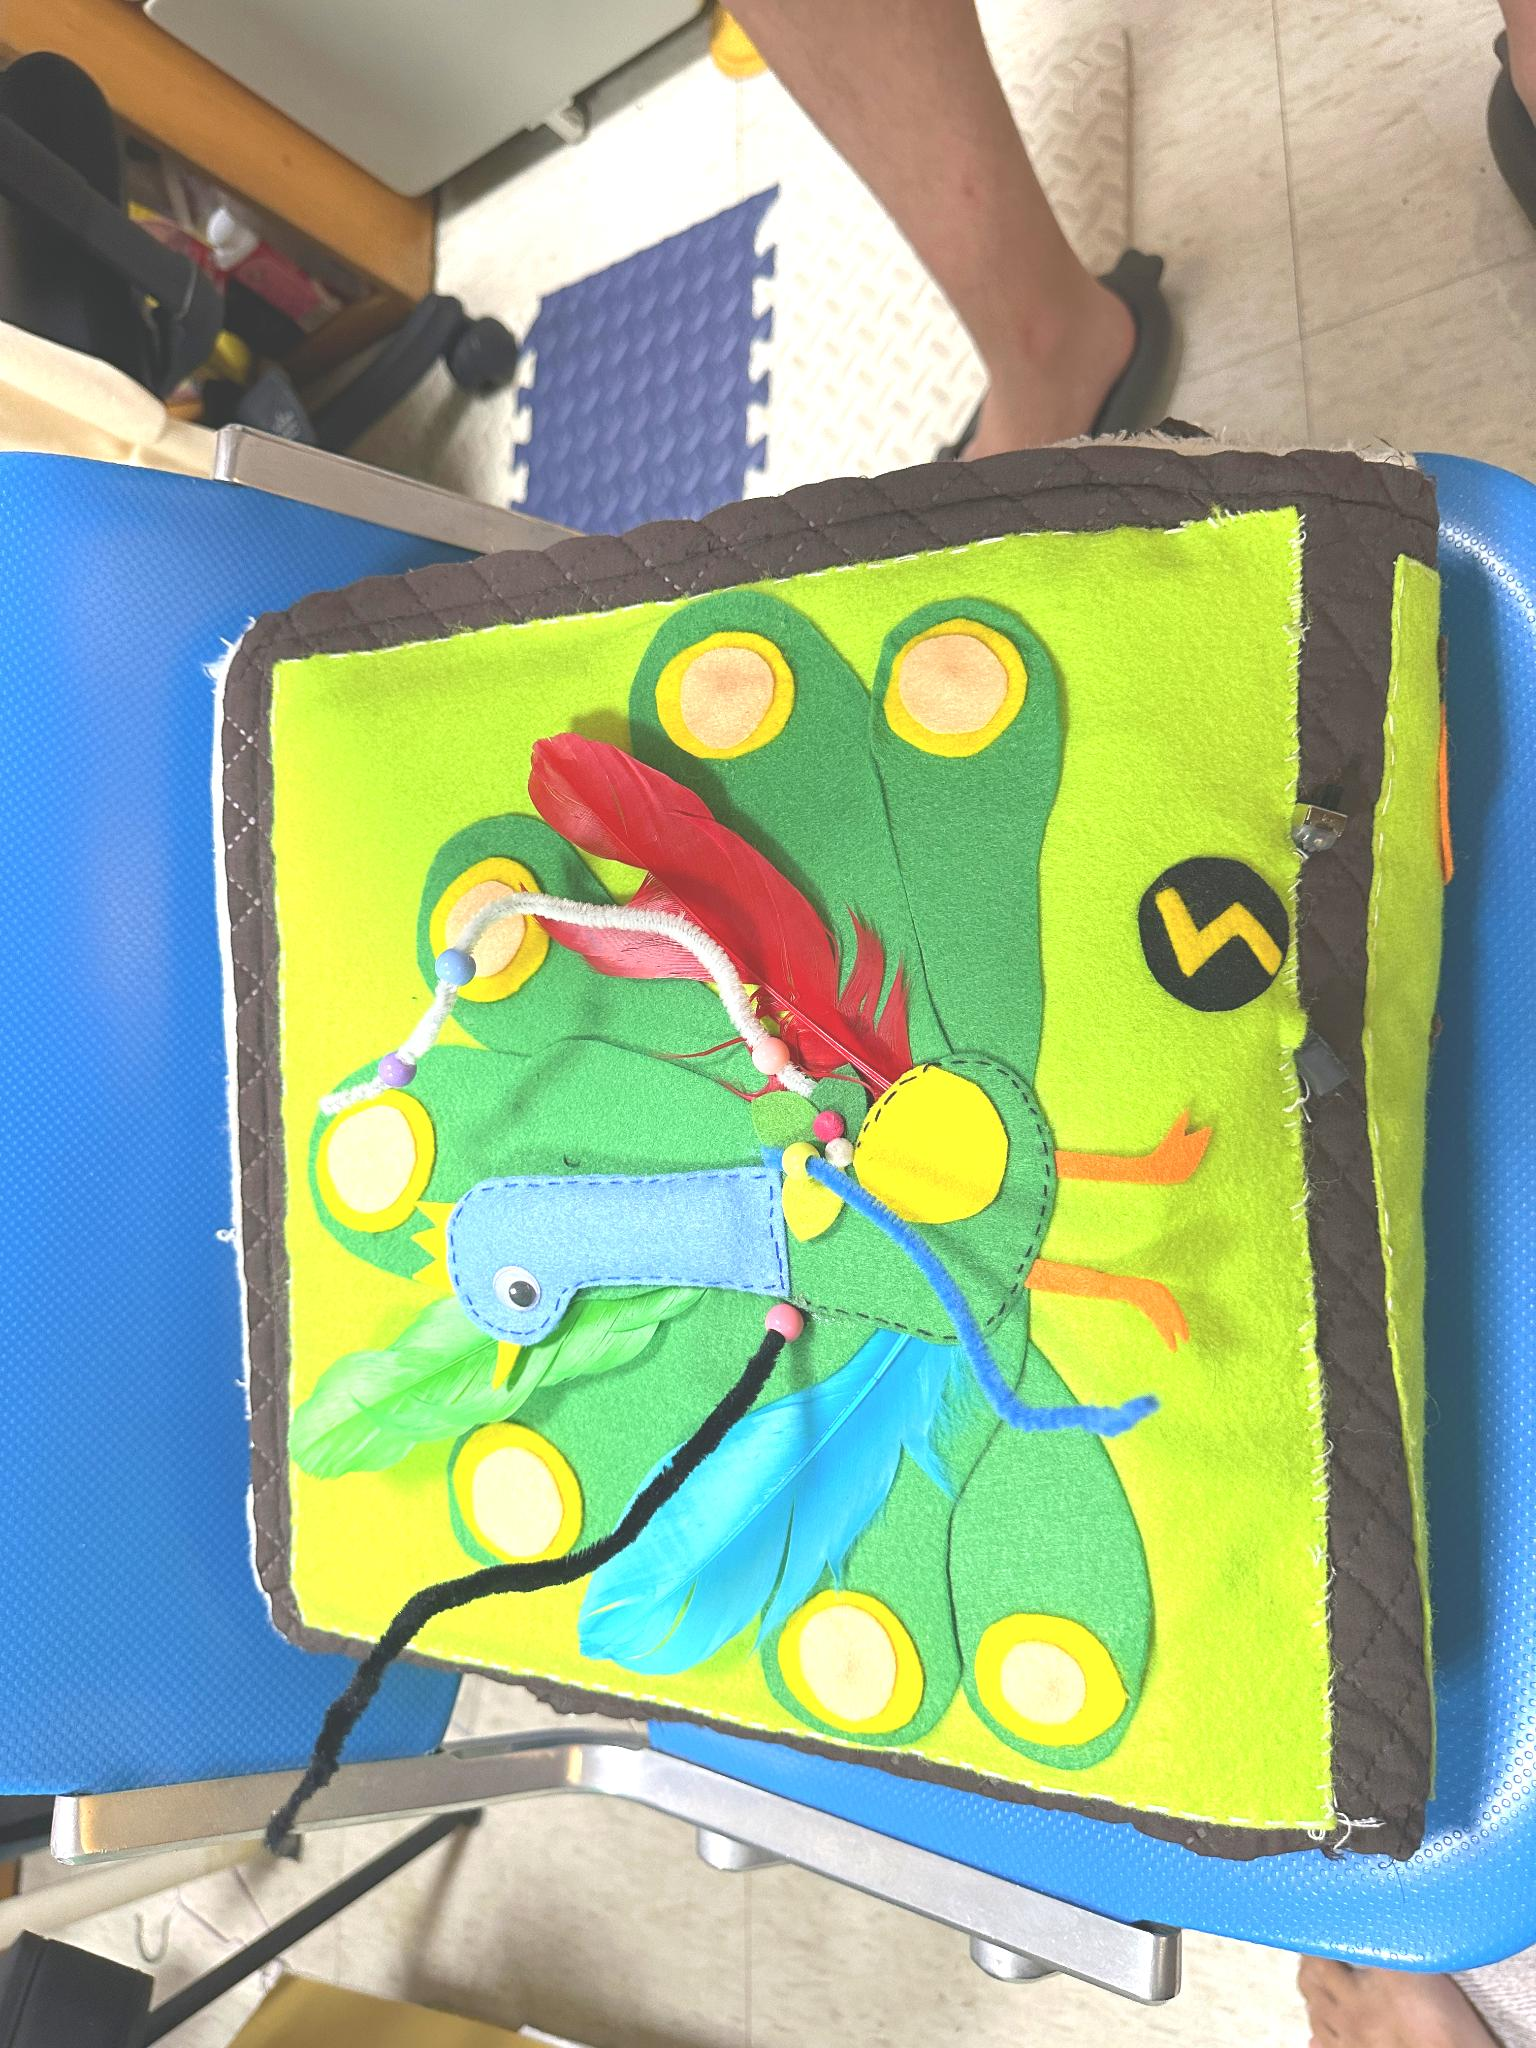bead: (416, 947, 487, 1000), (742, 1035, 799, 1085), (779, 1137, 821, 1192), (376, 1042, 418, 1092), (760, 1300, 808, 1342)
